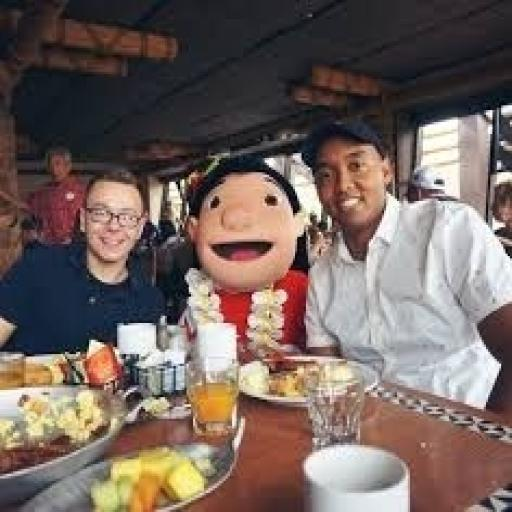eating: (297, 113, 510, 421)
